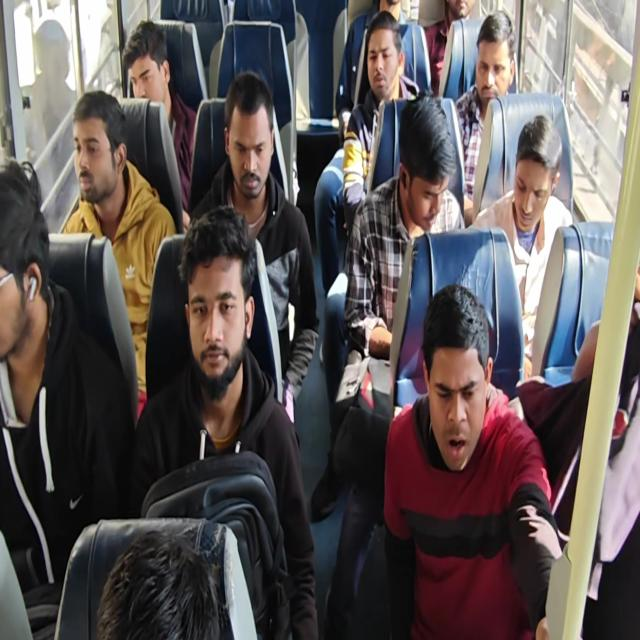person: (1, 1, 638, 638), (131, 203, 319, 638), (321, 89, 465, 636), (0, 156, 134, 636), (383, 282, 563, 638), (188, 70, 320, 425), (515, 265, 639, 639), (59, 89, 177, 421), (314, 10, 422, 295), (468, 113, 574, 381), (121, 19, 198, 224), (95, 528, 232, 639), (453, 9, 518, 222), (20, 18, 82, 226), (335, 0, 420, 142), (424, 0, 475, 97)
